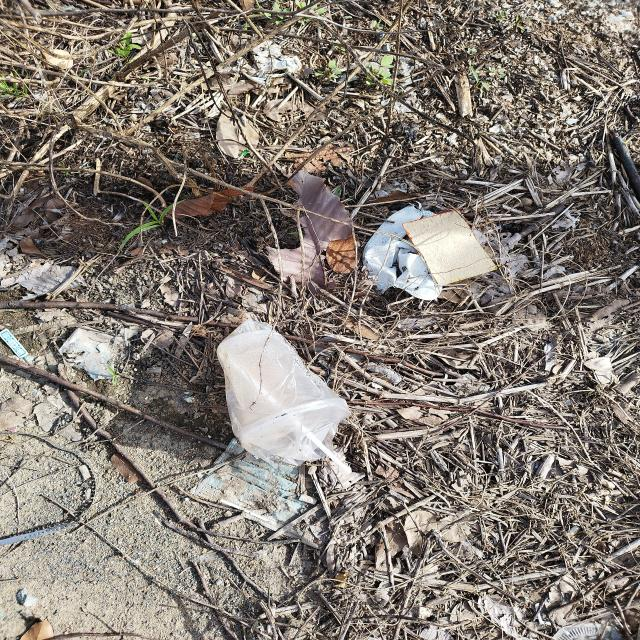bag: (218, 318, 350, 466)
drinking straw: (229, 357, 351, 473)
plastic glass: (218, 330, 347, 442)
